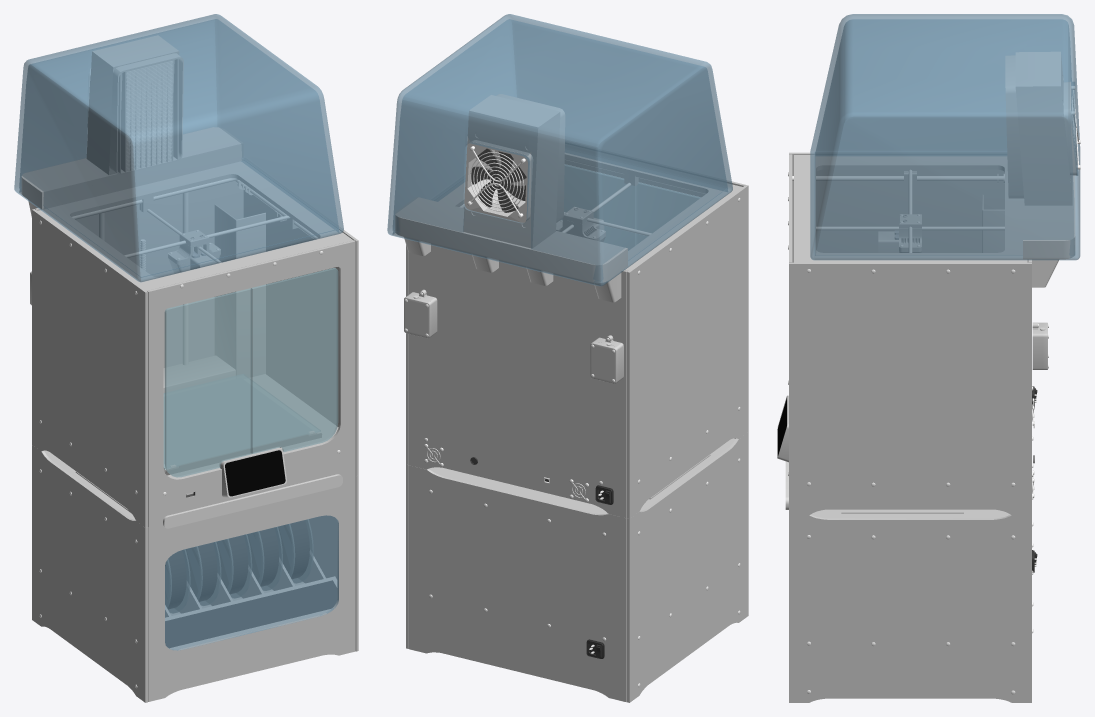
File: Ultimaker S5.fbx
3 renders of one model, left to right at view 1: azimuth 30°, elevation 25°; view 2: azimuth 150°, elevation 25°; view 3: azimuth 270°, elevation 25°, orthographic. The views are drawn at different scales.
Parts seen in each view (by area): view 1: Cube.010, GlassPanel, RightPanel, LeftPanel.004, BackPanel.004, MatStationGlass, FrontPanel, LeftPanel, BackPanel, BuildPlate, TopBase, Circle.002 (+19 smaller); view 2: Cube.010, BackPanel, BackPanel.003, RightPanel, LeftPanel.004, Cube.012, Cube.018, GlassPanel, TopBase, Cube.008, Cube.019, Circle (+7 smaller); view 3: Cube.010, LeftPanel, LeftPanel.002, RightPanel, TopBase, Cube.012, Cube.018, Cube.015, Cube.008, BackSupport, DoubleCylinder.002, PrinterHead1 (+6 smaller).
Part boxes in pixels (box(x1,y1,x2,y2)): Cube.010: box(14, 14, 343, 282); GlassPanel: box(164, 268, 338, 477); RightPanel: box(32, 209, 147, 527); LeftPanel.004: box(32, 445, 147, 702); BackPanel.004: box(148, 476, 355, 701); MatStationGlass: box(165, 515, 338, 650); FrontPanel: box(147, 240, 355, 526); LeftPanel: box(244, 190, 358, 475); BackPanel: box(35, 181, 243, 367); BuildPlate: box(163, 374, 320, 469); TopBase: box(38, 161, 353, 290); Circle.002: box(165, 519, 313, 613); Cube.010: box(387, 14, 732, 286); BackPanel: box(409, 243, 627, 518); BackPanel.003: box(409, 465, 626, 702); RightPanel: box(627, 185, 748, 518); LeftPanel.004: box(627, 432, 748, 702); Cube.012: box(463, 95, 559, 248); Cube.018: box(395, 197, 627, 282); GlassPanel: box(561, 164, 700, 250); TopBase: box(438, 152, 742, 270); Cube.008: box(429, 438, 735, 513); Cube.019: box(464, 140, 532, 222); Circle: box(471, 148, 526, 212); Cube.010: box(810, 14, 1080, 260); LeftPanel: box(789, 262, 1031, 515); LeftPanel.002: box(789, 514, 1031, 702); RightPanel: box(789, 152, 1004, 262); TopBase: box(794, 155, 1027, 262); Cube.012: box(1016, 52, 1072, 205); Cube.018: box(1023, 175, 1075, 259); Cube.015: box(1005, 55, 1023, 198); Cube.008: box(811, 509, 1010, 518); BackSupport: box(982, 194, 1028, 262); DoubleCylinder.002: box(792, 174, 1004, 182); PrinterHead1: box(899, 214, 921, 252).
Size of the model in its own units: 49.7 by 121 by 56.93.
